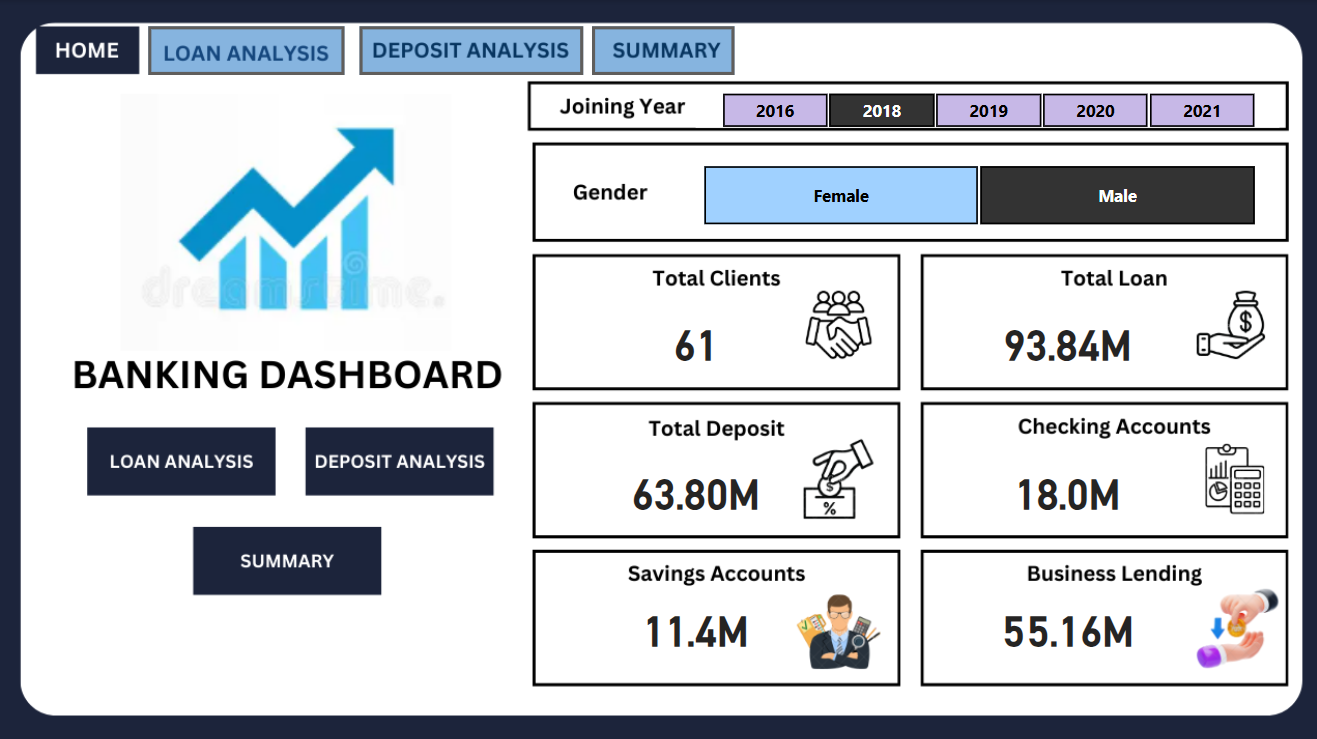

What the dashboard file says about the page in this screenshot:
{"tool":"powerbi","page":{"name":"Home","canvas":[1280,720],"ordinal":0},"visuals":[{"type":"card","fields":{"Values":["CountNonNull(Banking.Name)"]},"box":[582.5,298.8,183.8,61.2],"z":0},{"type":"card","fields":{"Values":["Banking.Total Loan"]},"box":[947.5,298.8,172.5,61.2],"z":1000},{"type":"card","fields":{"Values":["Banking.Total Deposit"]},"box":[582.5,445,183.8,57.5],"z":2000},{"type":"card","fields":{"Values":["Sum(Banking.Checking Accounts)"]},"box":[947.5,445,172.5,57.5],"z":3000},{"type":"card","fields":{"Values":["Sum(Banking.Saving Accounts)"]},"box":[582.7,577.9,183.4,55.5],"z":4000},{"type":"card","fields":{"Values":["Sum(Banking.Business Lending)"]},"box":[947.1,577.9,172.5,55.5],"z":5000},{"type":"slicer","fields":{"Values":["Banking.GenderId"]},"box":[656.3,153.2,581.5,70],"z":6000},{"type":"slicer","fields":{"Values":["Banking.Joined Bank.Variation.Date Hierarchy.Year"]},"box":[674.4,83.2,563.4,39.8],"z":7000},{"type":"actionButton","box":[85.7,412.6,185.8,70],"z":8000},{"type":"actionButton","box":[296.8,412.6,182.2,70],"z":9000},{"type":"actionButton","box":[188.2,511.5,182.2,66.4],"z":10000},{"type":"actionButton","box":[146,25.3,189.4,47.1],"z":11000},{"type":"actionButton","box":[349.9,25.3,216,47.1],"z":12000},{"type":"actionButton","box":[574.3,25.3,137.5,47.1],"z":13000}]}

Visuals, with their boxes in screenshot pixels (x1, y1, x2, y2), scaled from the page's 1280x720 canvas onto the 1317x739 screenshot:
card - CountNonNull(Banking.Name): BBox(599, 307, 788, 369)
card - Banking.Total Loan: BBox(975, 307, 1152, 369)
card - Banking.Total Deposit: BBox(599, 457, 788, 516)
card - Sum(Banking.Checking Accounts): BBox(975, 457, 1152, 516)
card - Sum(Banking.Saving Accounts): BBox(600, 593, 788, 650)
card - Sum(Banking.Business Lending): BBox(974, 593, 1152, 650)
slicer - Banking.GenderId: BBox(675, 157, 1274, 229)
slicer - Banking.Joined Bank.Variation.Date Hierarchy.Year: BBox(694, 85, 1274, 126)
actionButton: BBox(88, 423, 279, 495)
actionButton: BBox(305, 423, 493, 495)
actionButton: BBox(194, 525, 381, 593)
actionButton: BBox(150, 26, 345, 74)
actionButton: BBox(360, 26, 582, 74)
actionButton: BBox(591, 26, 732, 74)
